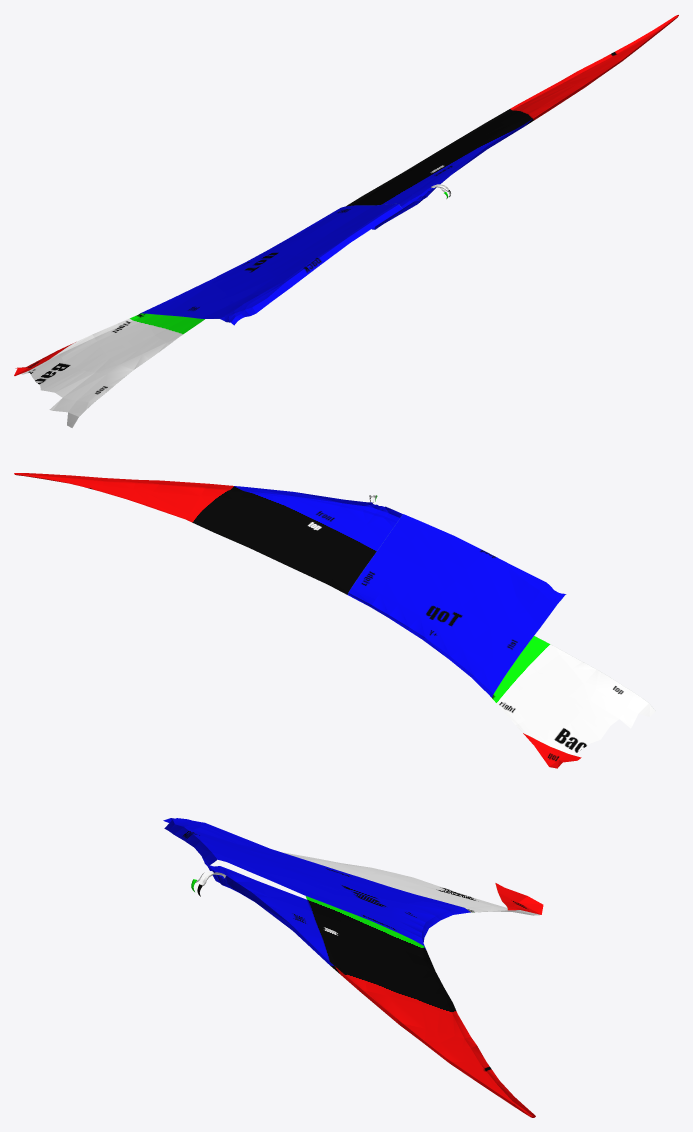
The model's file is dino_left.obj.
3 views of the same model, one above another, from view 1: azimuth 30°, elevation 25°; view 2: azimuth 150°, elevation 25°; view 3: azimuth 270°, elevation 25° (orthographic). The views are drawn at different scales.
Visible parts, largest first — view 1: leftwing; view 2: leftwing; view 3: leftwing.
Part boxes in pixels (x1=…): leftwing: x1=14, y1=15, x2=678, y2=427; leftwing: x1=14, y1=473, x2=655, y2=770; leftwing: x1=163, y1=818, x2=543, y2=1117.
Size of the model in its own units: 46.94 by 12.84 by 13.94.
